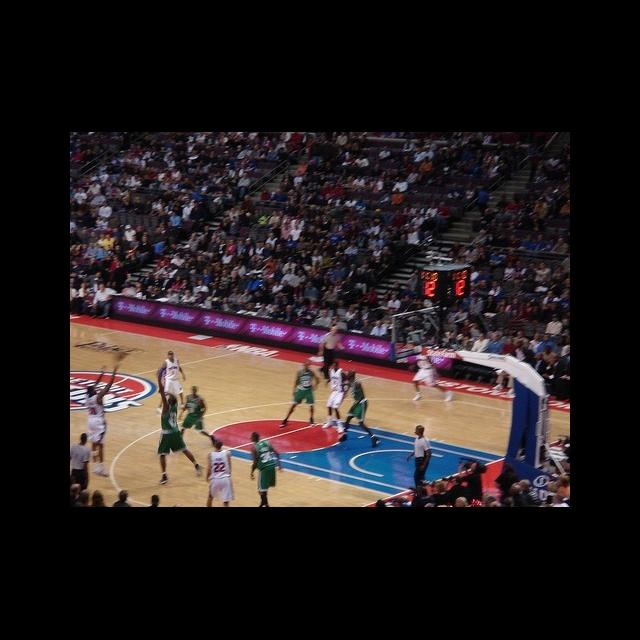basketball: (110, 348, 130, 366)
